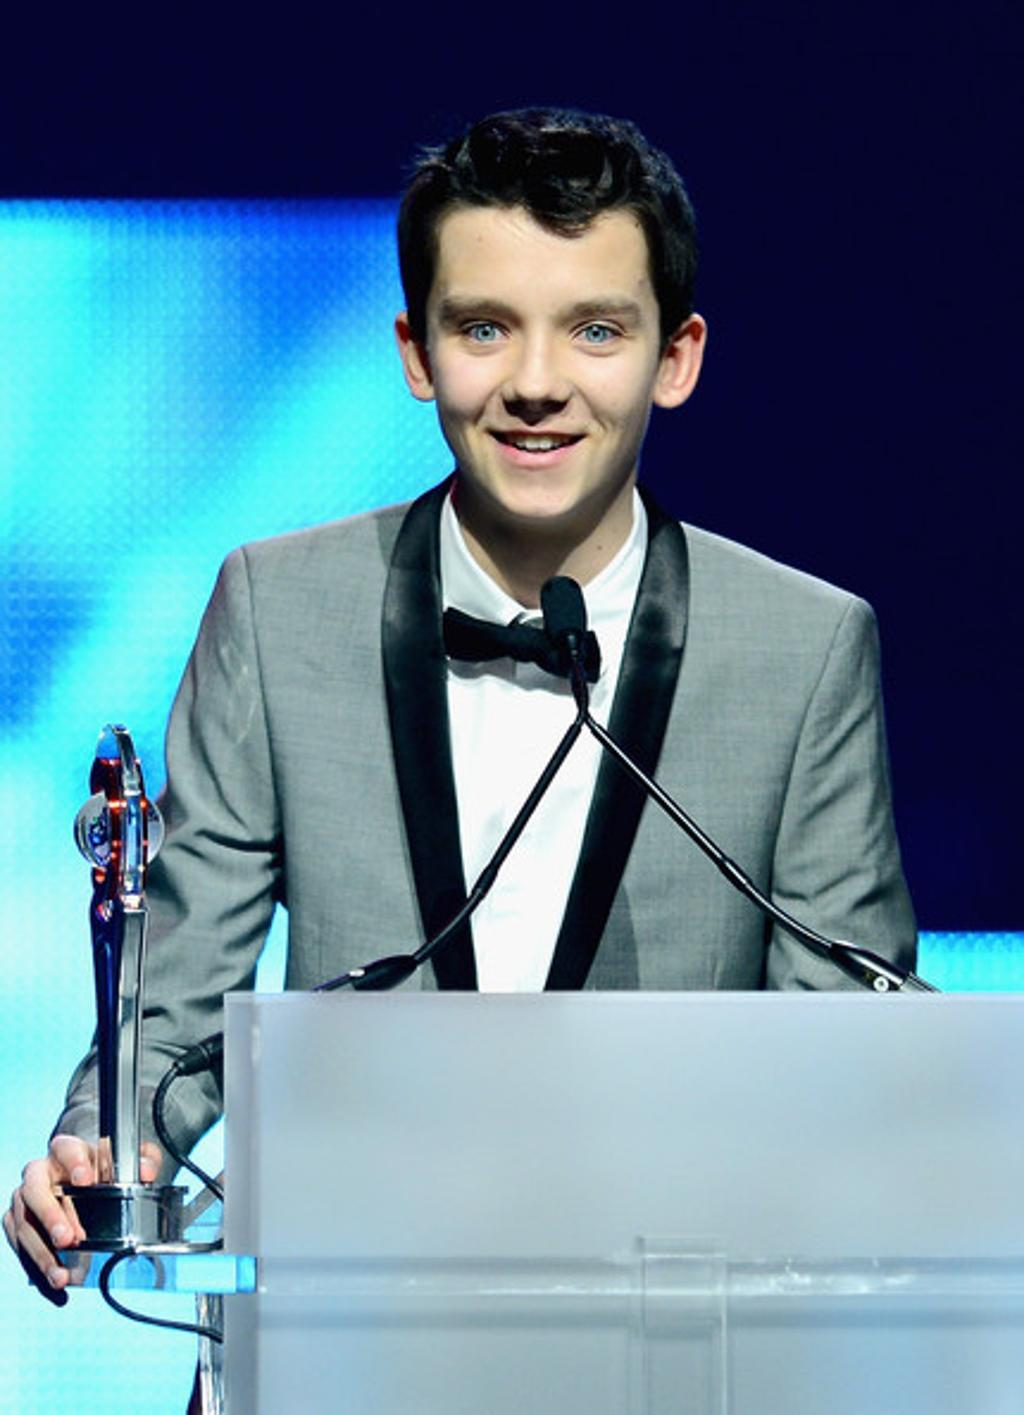face: (429, 183, 661, 522)
